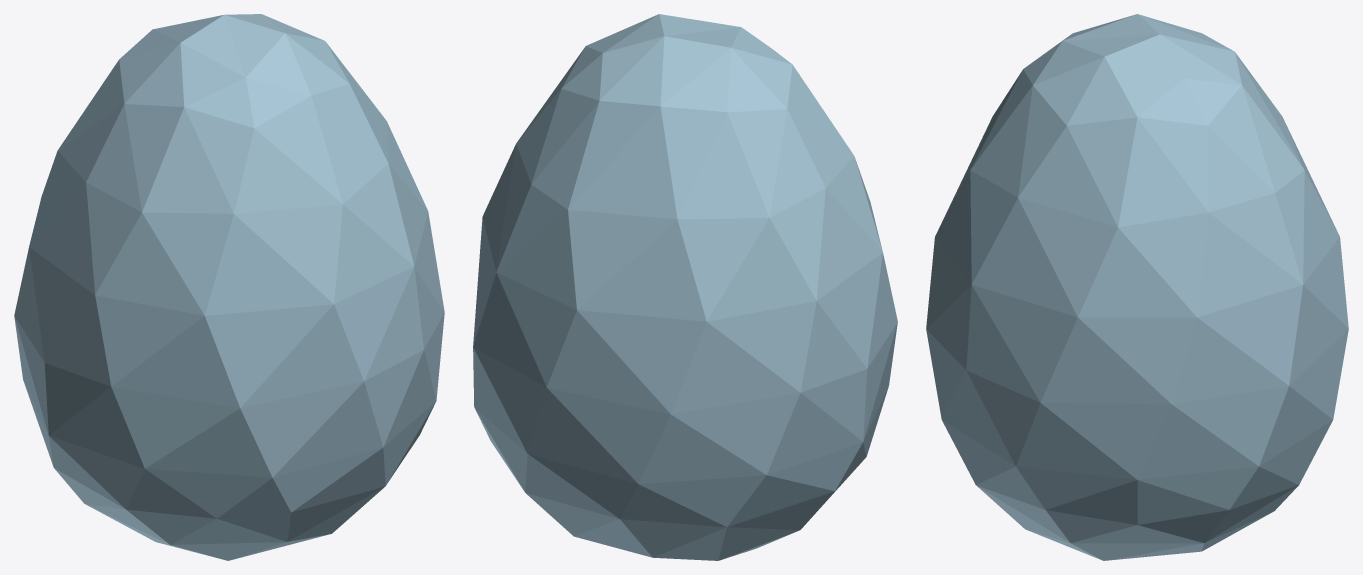
File: Egg_Duck.fbx
The picture shows the model from 3 angles, left to right: view 1: azimuth 30°, elevation 25°; view 2: azimuth 150°, elevation 25°; view 3: azimuth 270°, elevation 25°; orthographic projection.
Visible parts, largest first — view 1: Egg_Duck; view 2: Egg_Duck; view 3: Egg_Duck.
Boxes of the visible parts, x1=… form: Egg_Duck: x1=14, y1=14, x2=444, y2=560; Egg_Duck: x1=473, y1=14, x2=897, y2=560; Egg_Duck: x1=926, y1=14, x2=1348, y2=560.
Size of the model in its own units: 0.3409 by 0.4546 by 0.3409.
